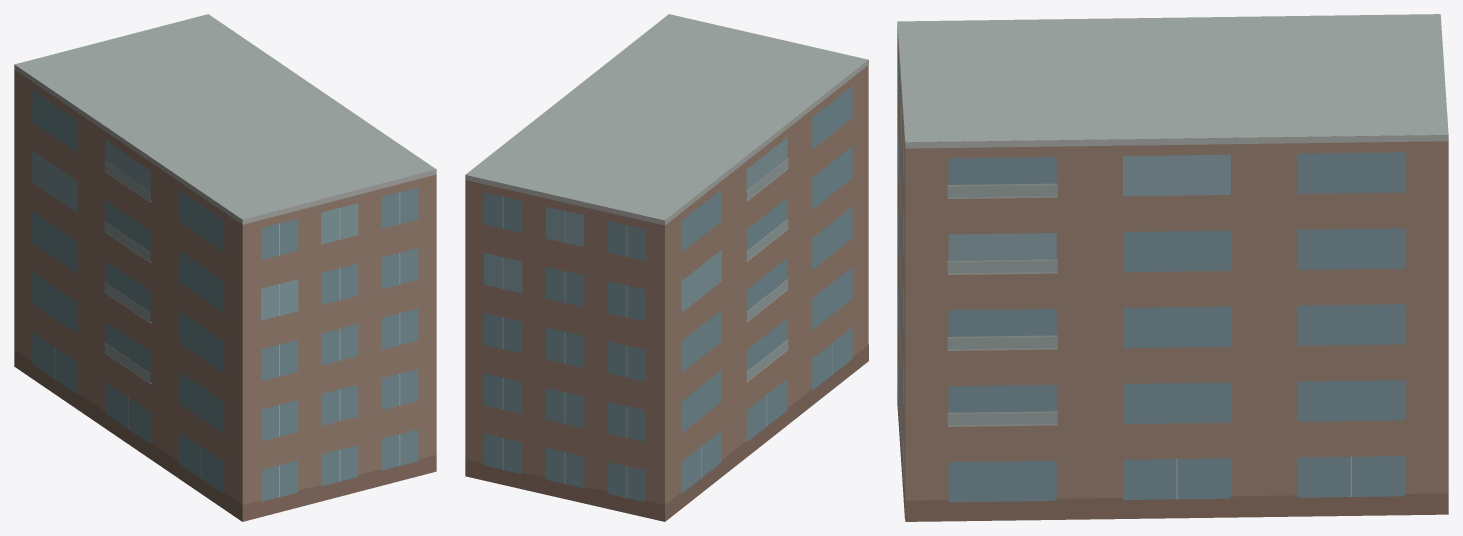
The model's file is survey-upis-32706502.glb.
3 views of the same model, side by side, from view 1: azimuth 30°, elevation 25°; view 2: azimuth 150°, elevation 25°; view 3: azimuth 270°, elevation 25° (orthographic). The views are drawn at different scales.
Visible parts, largest first — view 1: survey-upis-32706502.tmp; view 2: survey-upis-32706502.tmp; view 3: survey-upis-32706502.tmp.
Part boxes in pixels (x1,y1,x2,y2): survey-upis-32706502.tmp: (14, 14, 436, 521); survey-upis-32706502.tmp: (465, 14, 868, 521); survey-upis-32706502.tmp: (897, 14, 1448, 521).
Bounding box in the file's own units: 10.51 × 14.5 × 19.09.
